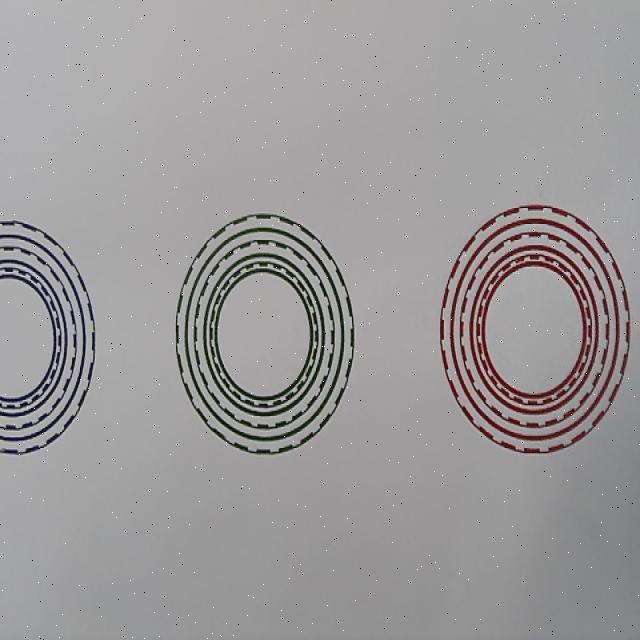g: (175, 213, 354, 456)
red-green-blue: (440, 204, 631, 456)
